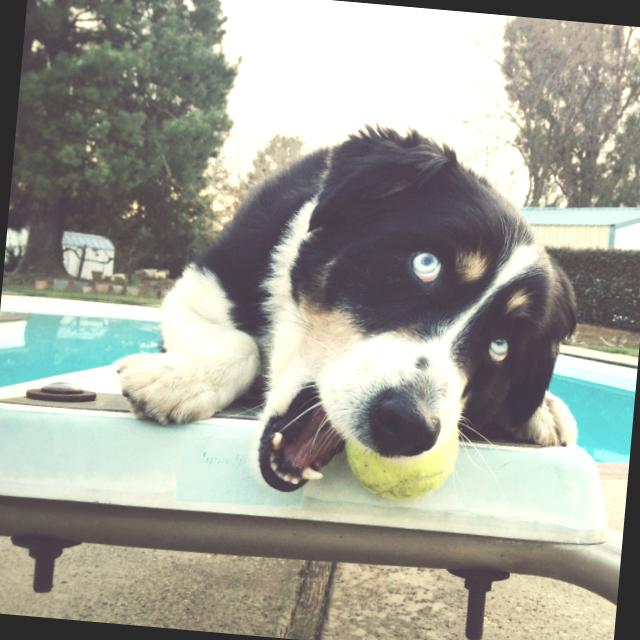Tennis ball: (340, 418, 458, 501)
